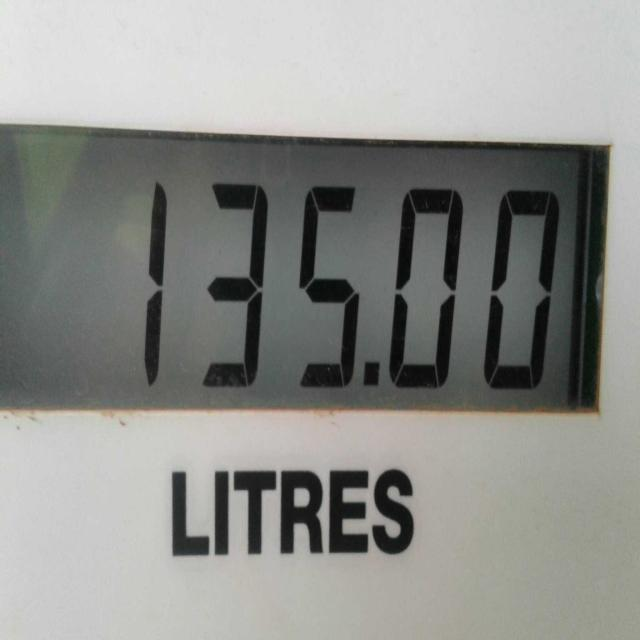.: (356, 347, 390, 403)
0: (474, 183, 566, 401), (384, 174, 464, 406)
1: (130, 162, 192, 389)
3: (189, 163, 281, 407)
5: (290, 172, 374, 400)
